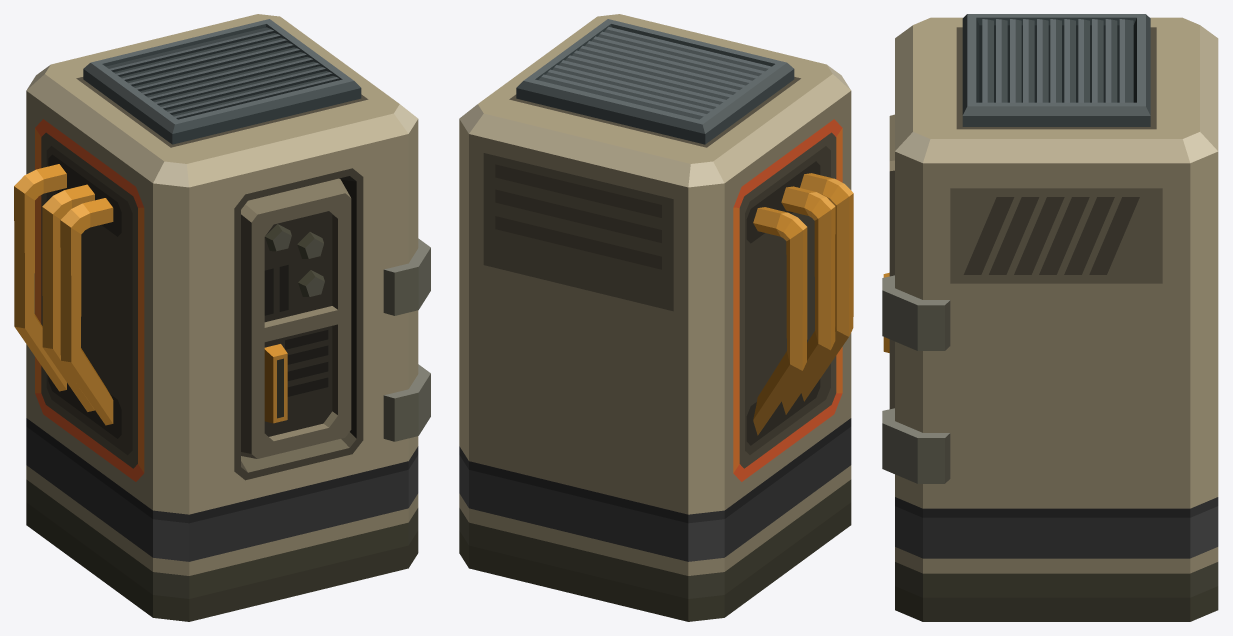
Rendered from CRM_Reactor_PowerModule.fbx.
The picture shows the model from 3 angles, left to right: view 1: azimuth 30°, elevation 25°; view 2: azimuth 150°, elevation 25°; view 3: azimuth 270°, elevation 25°; orthographic projection. The views are drawn at different scales.
Parts seen in each view (by area): view 1: CRM_Reactor_PowerModule; view 2: CRM_Reactor_PowerModule; view 3: CRM_Reactor_PowerModule.
Part boxes in pixels (x1=…): CRM_Reactor_PowerModule: x1=14, y1=14, x2=430, y2=621; CRM_Reactor_PowerModule: x1=459, y1=14, x2=853, y2=621; CRM_Reactor_PowerModule: x1=882, y1=14, x2=1218, y2=621.
Bounding box in the file's own units: 2.42 × 3.37 × 2.08.
